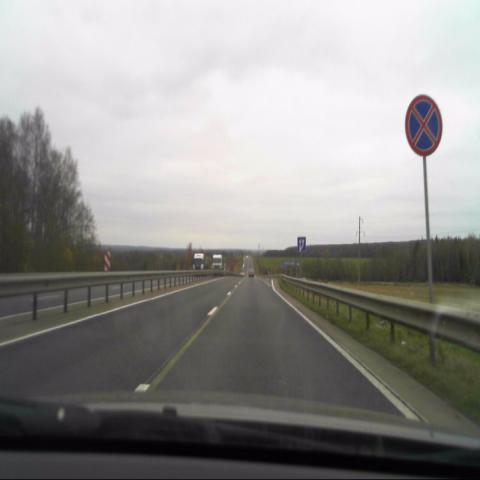3_27: (405, 94, 442, 155)
